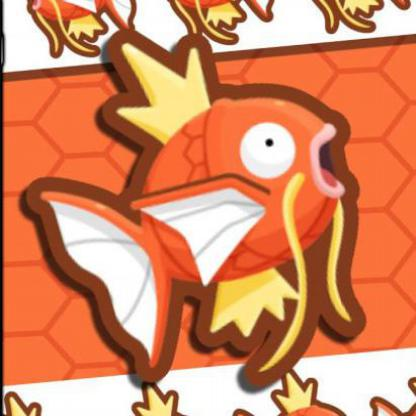Magikarp: (7, 6, 344, 404)
